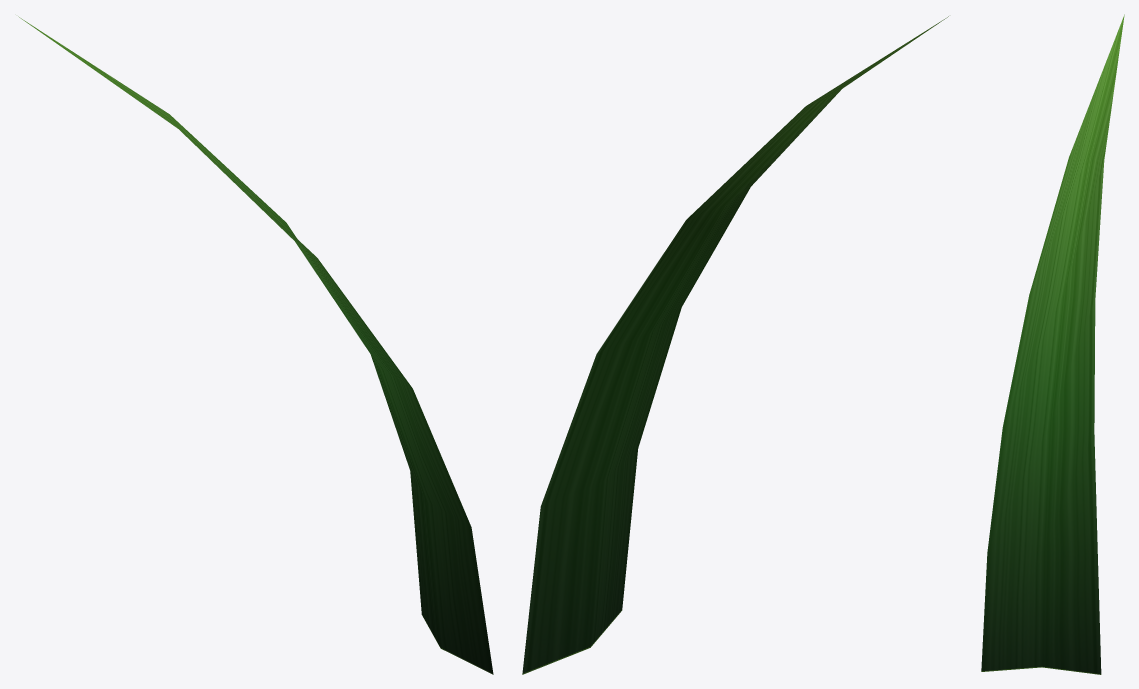
Rendered from Grass_Blade_Wide.fbx.
The picture shows the model from 3 angles, left to right: view 1: azimuth 30°, elevation 25°; view 2: azimuth 150°, elevation 25°; view 3: azimuth 270°, elevation 25°; orthographic projection. The views are drawn at different scales.
Parts seen in each view (by area): view 1: Grass_Blade_Wide; view 2: Grass_Blade_Wide; view 3: Grass_Blade_Wide.
Boxes of the visible parts, <box> form: Grass_Blade_Wide: <box>18,16,493,674</box>; Grass_Blade_Wide: <box>522,16,948,674</box>; Grass_Blade_Wide: <box>981,14,1124,674</box>.
Bounding box in the file's own units: 1.08 × 1.8 × 0.4532.
1 material, 1 textured.
